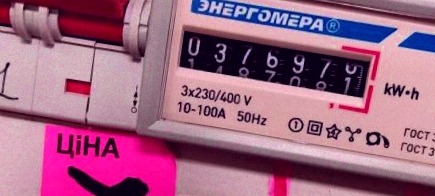0: (184, 32, 202, 56)
1: (338, 73, 353, 95)
3: (211, 39, 229, 63)
6: (262, 43, 281, 68)
7: (236, 40, 254, 65), (315, 55, 333, 79)
9: (288, 49, 306, 74)
screen: (163, 13, 383, 117)
